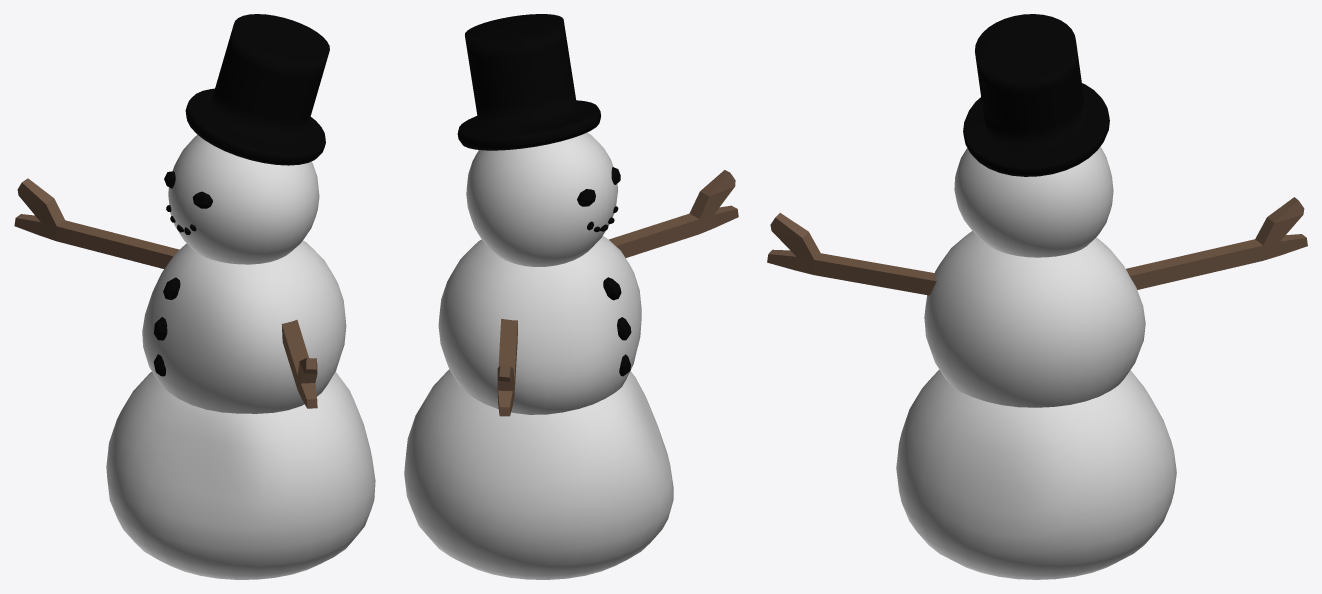
File: snowman.glb
3 views of the same model, side by side, from view 1: azimuth 30°, elevation 25°; view 2: azimuth 150°, elevation 25°; view 3: azimuth 270°, elevation 25° (orthographic). The views are drawn at different scales.
Parts seen in each view (by area): view 1: Sphere, Sphere.001, Cylinder, Sphere.002, Cube.001, Cube; view 2: Sphere, Sphere.001, Sphere.002, Cylinder, Cube, Cube.001; view 3: Sphere, Sphere.001, Cylinder, Sphere.002, Cube.001, Cube.
Boxes of the visible parts, bbox=[...] form: Sphere: bbox=[106, 371, 375, 579]; Sphere.001: bbox=[142, 240, 346, 413]; Cylinder: bbox=[185, 14, 329, 165]; Sphere.002: bbox=[168, 135, 319, 264]; Cube.001: bbox=[14, 178, 179, 268]; Cube: bbox=[281, 320, 317, 408]; Sphere: bbox=[404, 369, 673, 579]; Sphere.001: bbox=[438, 236, 641, 414]; Sphere.002: bbox=[466, 132, 617, 266]; Cylinder: bbox=[457, 14, 600, 150]; Cube: bbox=[609, 170, 738, 257]; Cube.001: bbox=[497, 318, 517, 416]; Sphere: bbox=[896, 369, 1176, 579]; Sphere.001: bbox=[924, 231, 1145, 407]; Cylinder: bbox=[963, 14, 1109, 176]; Sphere.002: bbox=[954, 146, 1113, 257]; Cube.001: bbox=[1126, 197, 1307, 289]; Cube: bbox=[767, 213, 936, 295].
Bounding box in the file's own units: 2 × 4.2 × 3.86.
